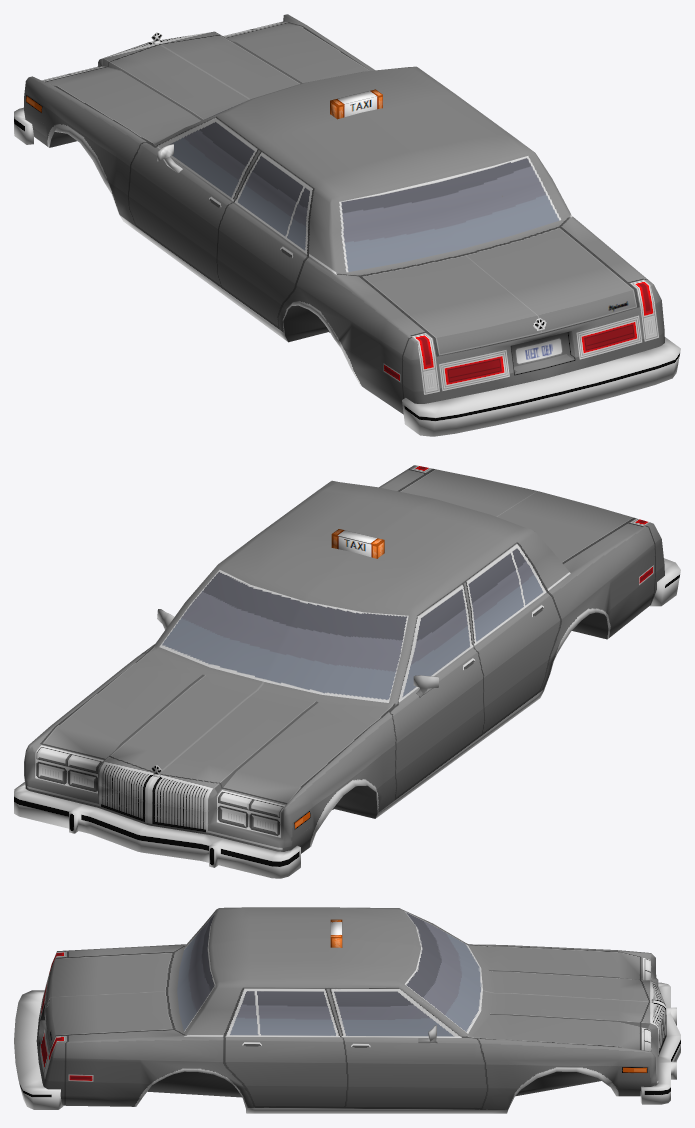
Rendered from 82lebarontaxi1.fbx.
3 views of the same model, one above another, from view 1: azimuth 30°, elevation 25°; view 2: azimuth 150°, elevation 25°; view 3: azimuth 270°, elevation 25° (orthographic). The views are drawn at different scales.
Parts seen in each view (by area): view 1: 82lebaron; view 2: 82lebaron; view 3: 82lebaron.
Boxes of the visible parts, box(x1,y1,x2,y2) form: 82lebaron: box(14, 14, 680, 436); 82lebaron: box(14, 465, 680, 878); 82lebaron: box(14, 907, 680, 1113).
Size of the model in its own units: 2.07 by 1.21 by 5.36.
